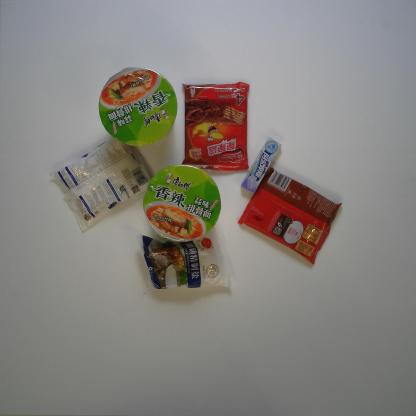Candy: (240, 137, 282, 194)
Dessert: (237, 166, 343, 265), (181, 81, 250, 172)
Instant Noodles: (98, 67, 178, 147), (142, 164, 222, 244)
Seasoner: (48, 137, 152, 233), (135, 230, 232, 290)
